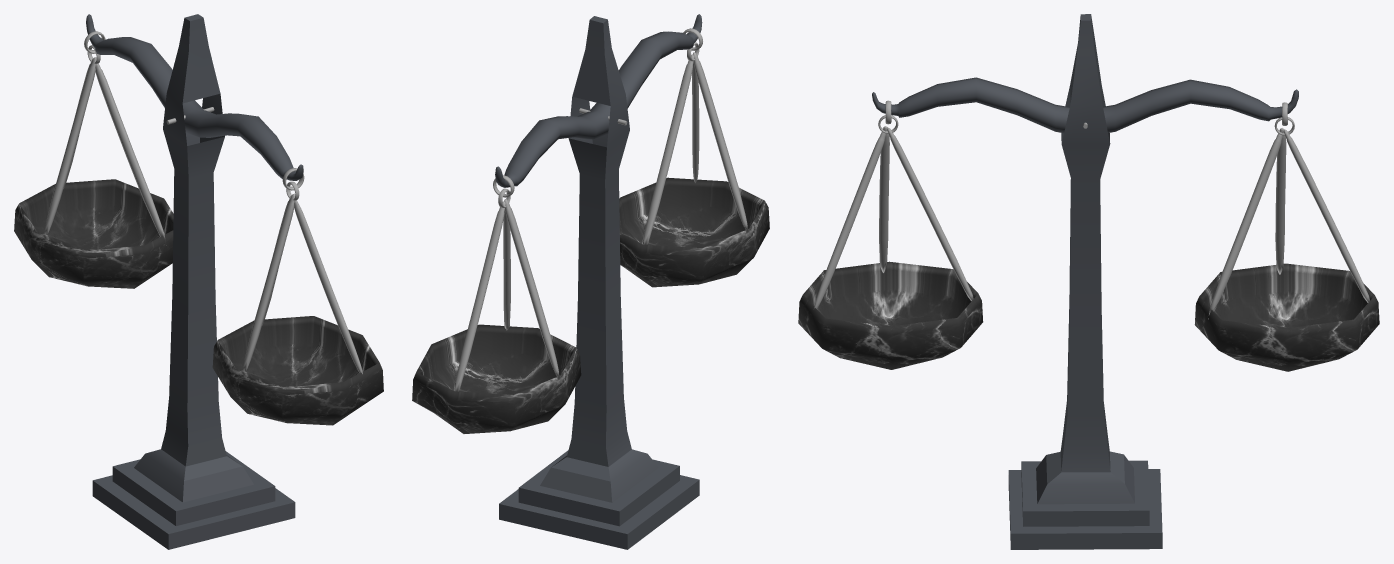
File: scale_only.fbx
3 views of the same model, side by side, from view 1: azimuth 30°, elevation 25°; view 2: azimuth 150°, elevation 25°; view 3: azimuth 270°, elevation 25° (orthographic). The views are drawn at different scales.
Visible parts, largest first — view 1: scale_14:pCylinder3, scale_13:pCube1; view 2: scale_14:pCylinder3, scale_13:pCube1; view 3: scale_14:pCylinder3, scale_13:pCube1.
Boxes of the visible parts, box(x1,y1,x2,y2) form: scale_14:pCylinder3: box(14, 14, 383, 425); scale_13:pCube1: box(92, 14, 295, 549); scale_14:pCylinder3: box(412, 14, 769, 433); scale_13:pCube1: box(499, 16, 699, 549); scale_14:pCylinder3: box(798, 77, 1379, 371); scale_13:pCube1: box(1008, 14, 1162, 549).
Bounding box in the file's own units: 1.22 × 4.01 × 4.23.
